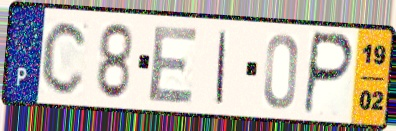0: (262, 32, 301, 112)
8: (96, 21, 135, 101)
C: (39, 17, 91, 97)
E: (145, 24, 201, 105)
I: (213, 29, 229, 107)
P: (300, 29, 356, 117)
